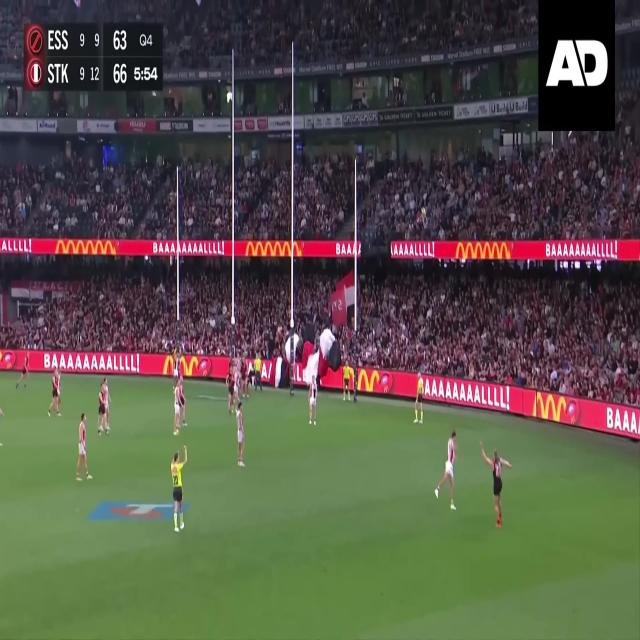crowd: (1, 73, 640, 241), (0, 0, 536, 92), (340, 273, 634, 399), (0, 255, 341, 352)
